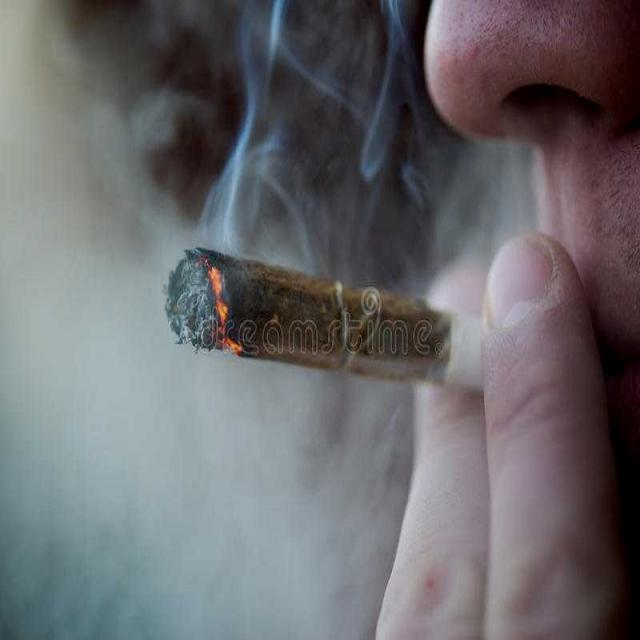Smooking: (147, 229, 490, 409)
